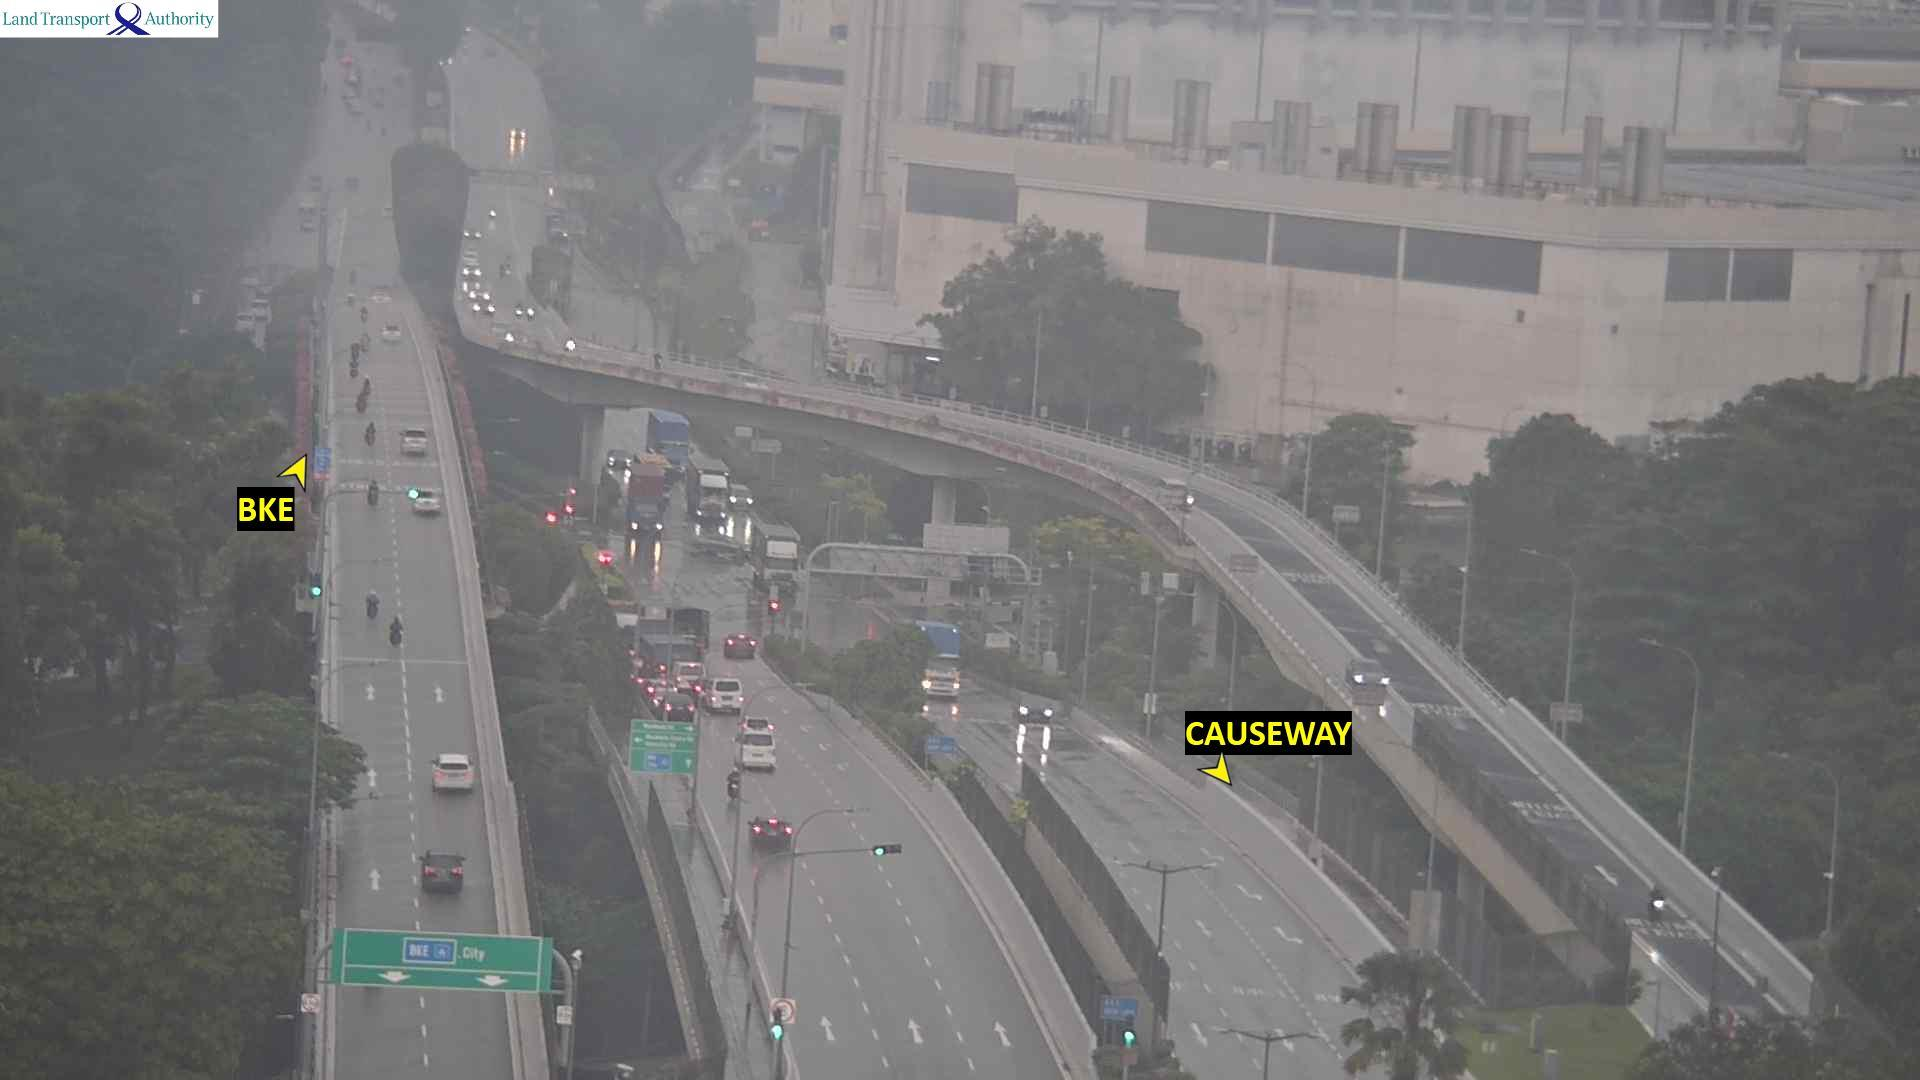vehicle-causeway-johor: (914, 618, 961, 696), (752, 524, 798, 588), (688, 455, 727, 520), (651, 410, 688, 472), (1352, 658, 1389, 690), (1015, 698, 1052, 725), (731, 485, 754, 513), (475, 302, 496, 318), (467, 289, 492, 298), (463, 228, 481, 240), (460, 269, 473, 284), (564, 336, 575, 351), (655, 352, 663, 367), (527, 307, 537, 319), (502, 262, 510, 276), (514, 303, 521, 316), (488, 211, 496, 220)
vehicle-causeway-singapore: (419, 852, 463, 885), (429, 766, 481, 793), (750, 818, 787, 847), (421, 869, 463, 894), (707, 678, 740, 705), (736, 749, 771, 774), (738, 720, 770, 745), (725, 638, 758, 662), (655, 699, 687, 723), (673, 665, 702, 686), (413, 493, 440, 514), (712, 696, 741, 715), (727, 771, 740, 802), (404, 429, 427, 444), (402, 446, 427, 460), (361, 380, 377, 401), (363, 596, 375, 622), (394, 618, 404, 646), (389, 323, 402, 338), (361, 377, 371, 397), (364, 481, 372, 502), (364, 423, 372, 443), (360, 305, 368, 322), (348, 293, 355, 309)
